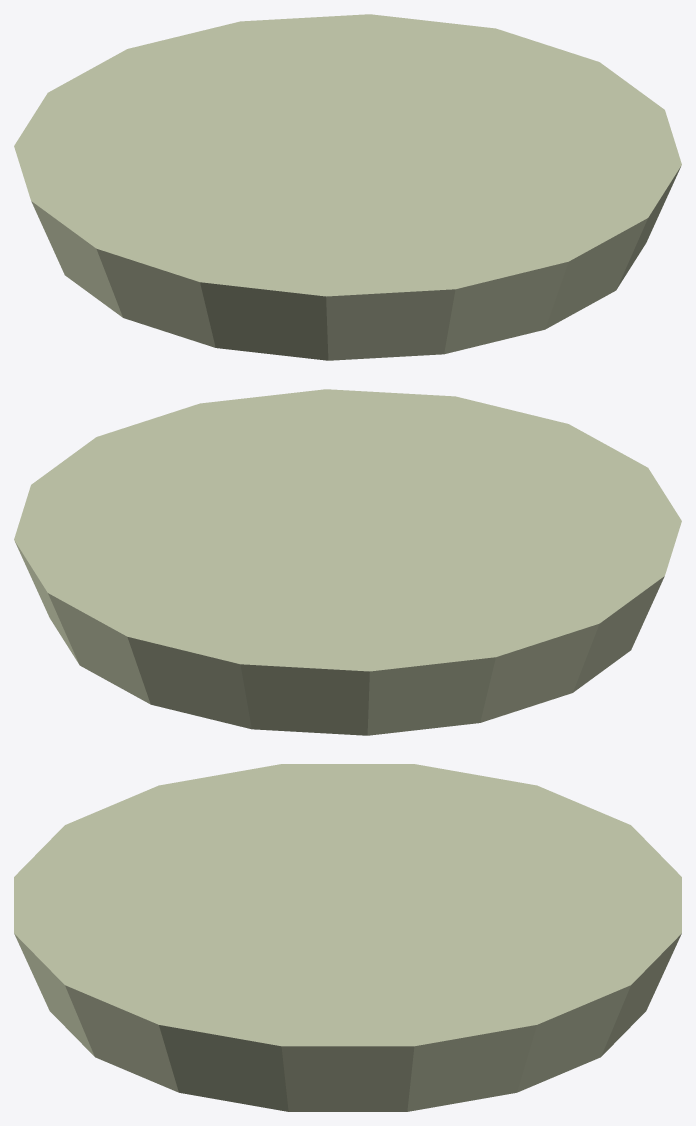
File: cygnus_service_module_s1p5_1_collider.obj
The picture shows the model from 3 angles, top to bottom: view 1: azimuth 30°, elevation 25°; view 2: azimuth 150°, elevation 25°; view 3: azimuth 270°, elevation 25°; orthographic projection.
Visible parts, largest first — view 1: collider; view 2: collider; view 3: collider.
Part boxes in pixels (left/top/right/bottom): collider: left=14, top=14, right=681, bottom=360; collider: left=14, top=389, right=681, bottom=735; collider: left=14, top=764, right=681, bottom=1111.
Bounding box in the file's own units: 1.88 × 0.25 × 1.88.
